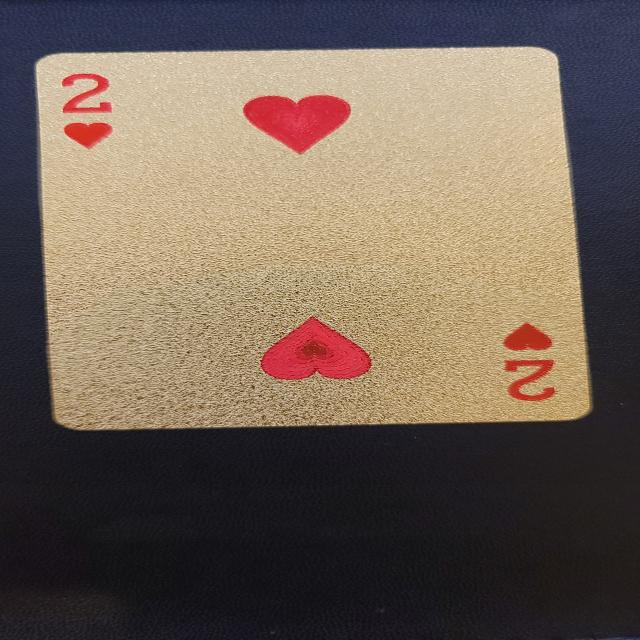2 of hearts: (33, 46, 598, 433)
